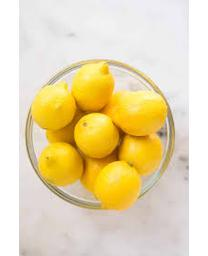lemon: (113, 93, 169, 136), (95, 162, 142, 212), (72, 60, 115, 112), (31, 86, 77, 131), (38, 142, 84, 185), (75, 115, 119, 156)
